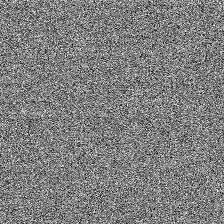cavities: (36, 55, 185, 161)
